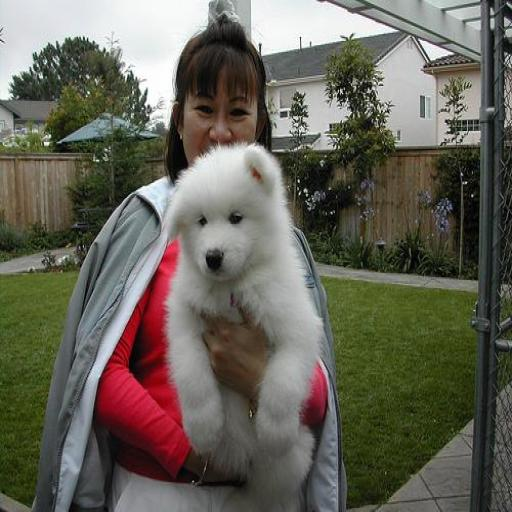dog_face: (165, 148, 284, 282)
